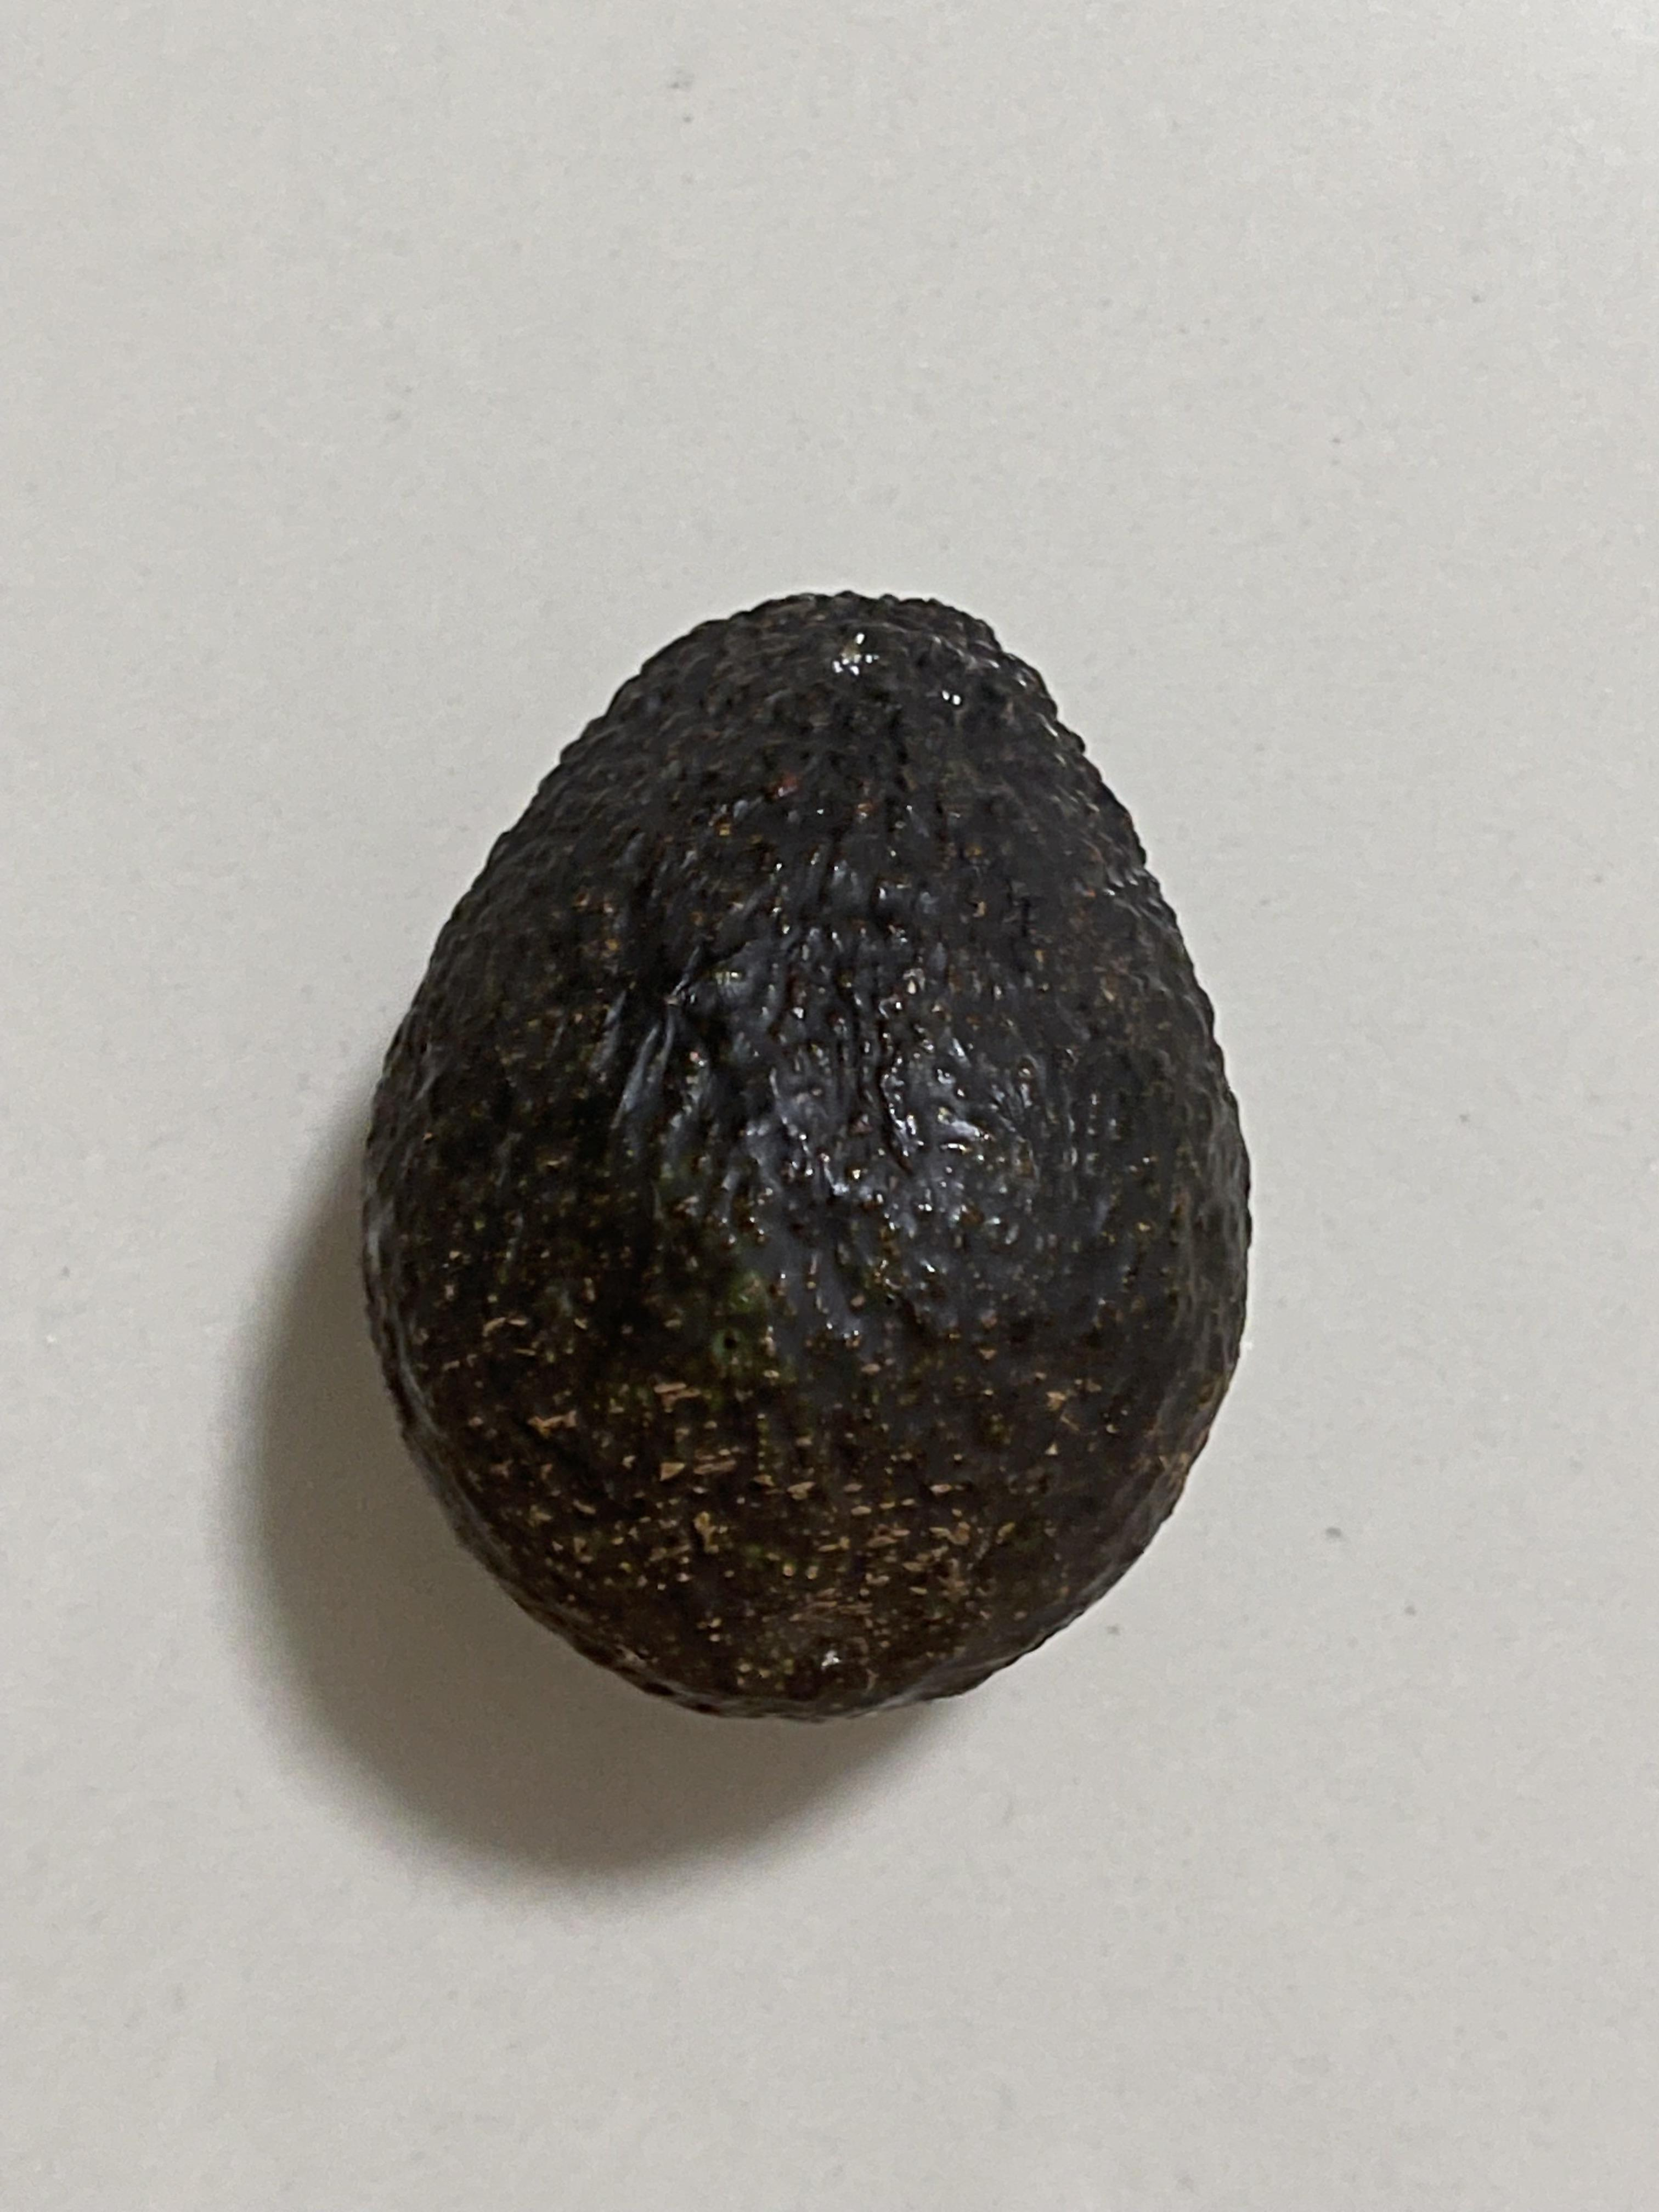Level2: (335, 577, 1281, 1730)
